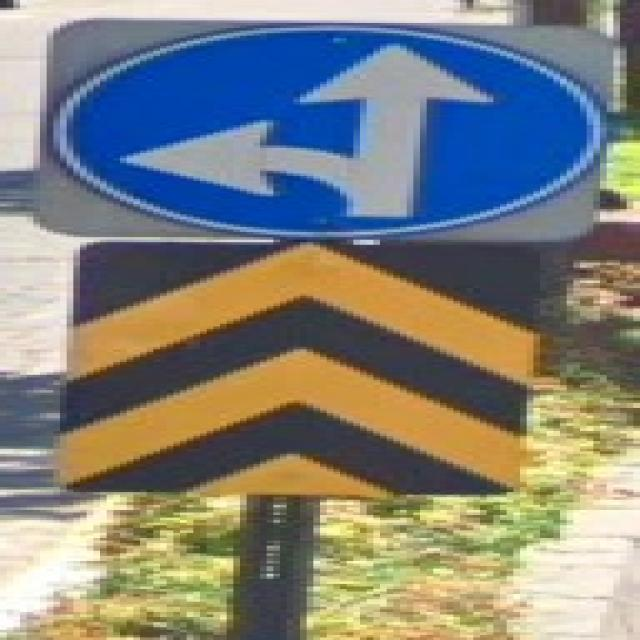Straight or Left: (48, 24, 601, 238)
